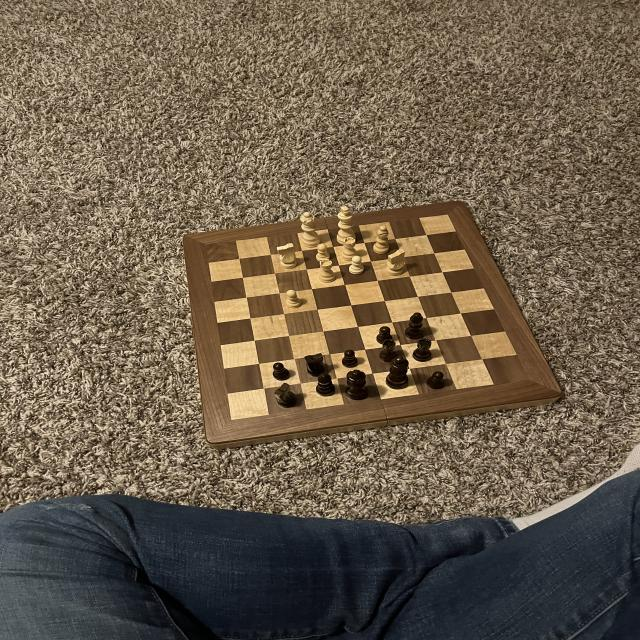bishop: (312, 369, 340, 399), (402, 311, 428, 340)
black-bishop: (382, 353, 415, 395)
black-king: (272, 381, 300, 410), (302, 352, 329, 378)
black-knight: (270, 360, 292, 381), (373, 324, 394, 346), (340, 348, 361, 368), (426, 370, 446, 390)
black-pawn: (342, 370, 372, 404)
black-queen: (378, 335, 401, 364), (410, 338, 434, 362)
black-rook: (371, 223, 394, 256)
white-bishop: (334, 202, 359, 248)
white-king: (384, 247, 408, 277), (276, 241, 300, 269)
white-knight: (313, 240, 334, 268), (284, 287, 303, 313), (346, 253, 365, 277)
white-pawn: (298, 209, 323, 251)
white-queen: (338, 232, 362, 263), (317, 258, 336, 284)
